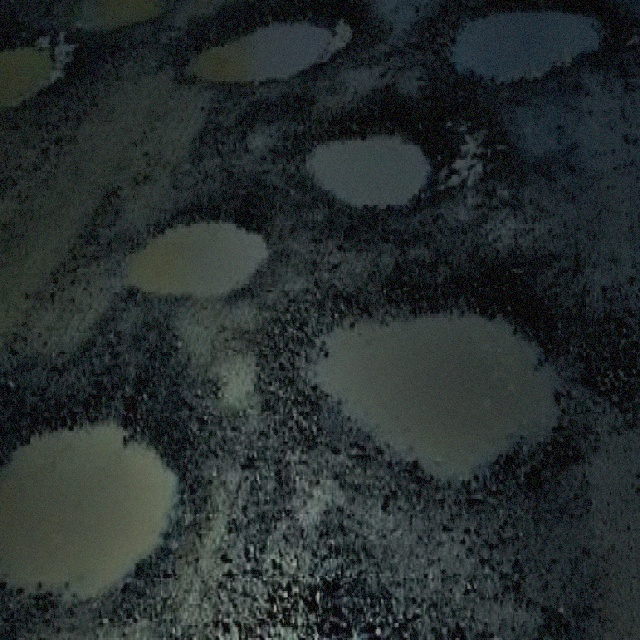pothole: (284, 264, 577, 506), (0, 390, 196, 606), (418, 0, 623, 87), (113, 196, 272, 303), (173, 0, 372, 85), (296, 104, 445, 216), (0, 30, 73, 113), (69, 0, 172, 32)
